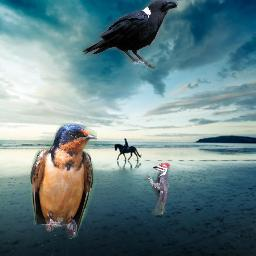Crow: (82, 0, 178, 69)
Swallow: (30, 123, 97, 239)
Woodpecker: (144, 163, 170, 215)
